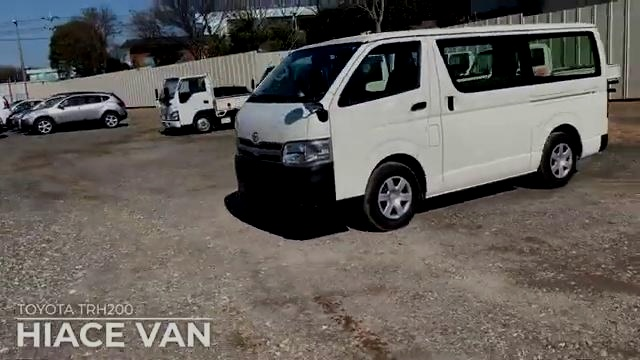van: (233, 19, 614, 213)
